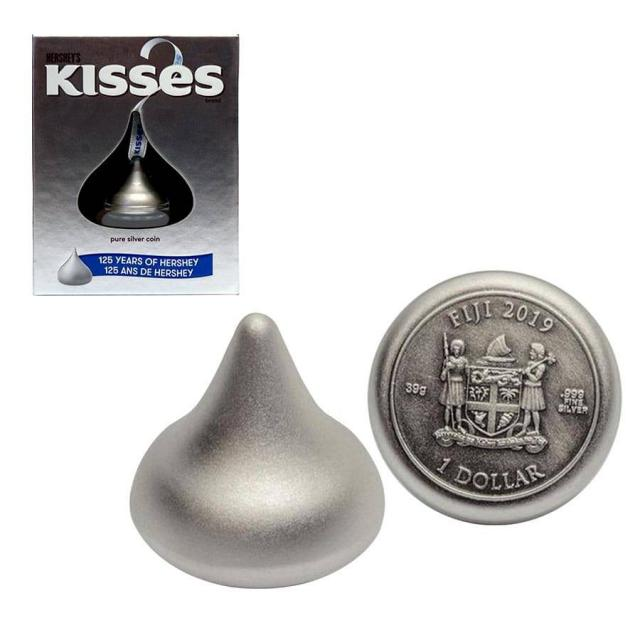kisses: (124, 316, 388, 608)
